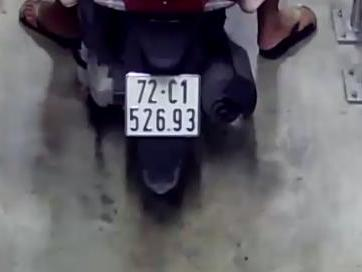num_plate: (123, 71, 201, 138)
